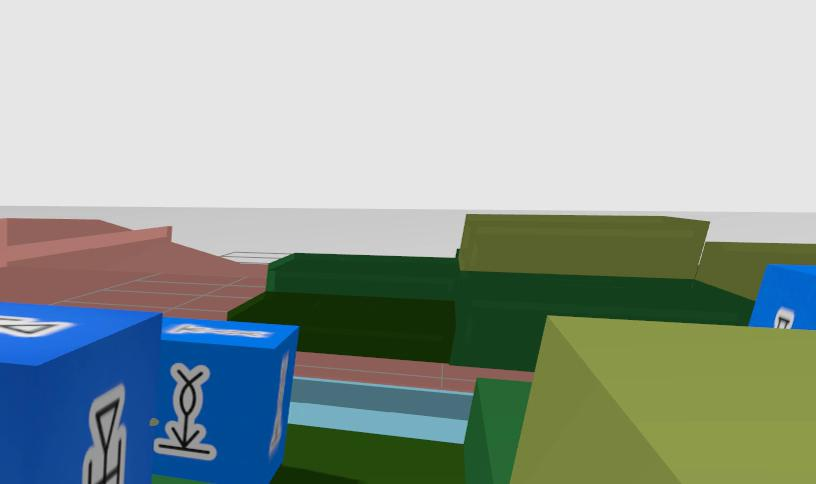KFS_REAL: (0, 303, 160, 483), (83, 384, 126, 483), (269, 354, 289, 456), (0, 315, 75, 337), (166, 323, 271, 338), (775, 307, 793, 328), (179, 410, 190, 429)
